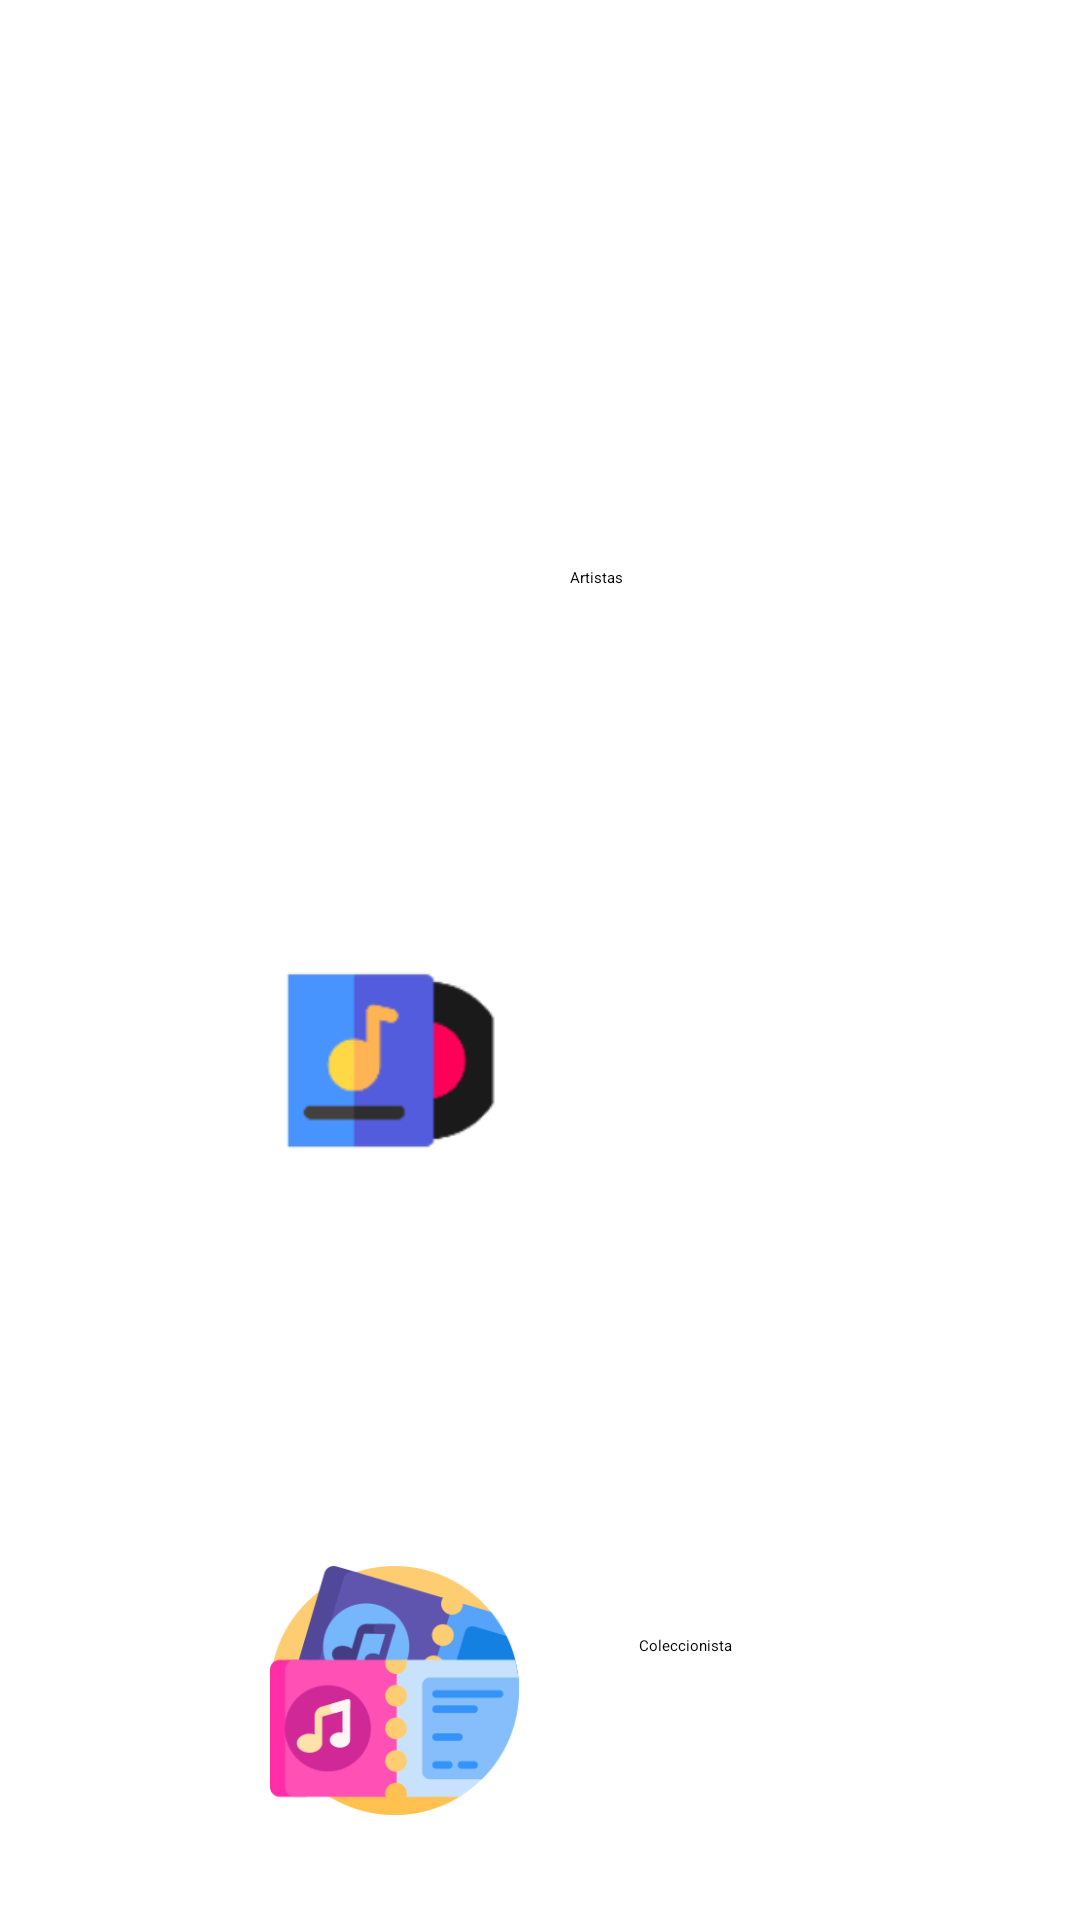

Icon click points for this 1080 x 1920 phone screenshot, format point (x, y):
album: point (391, 1061)
